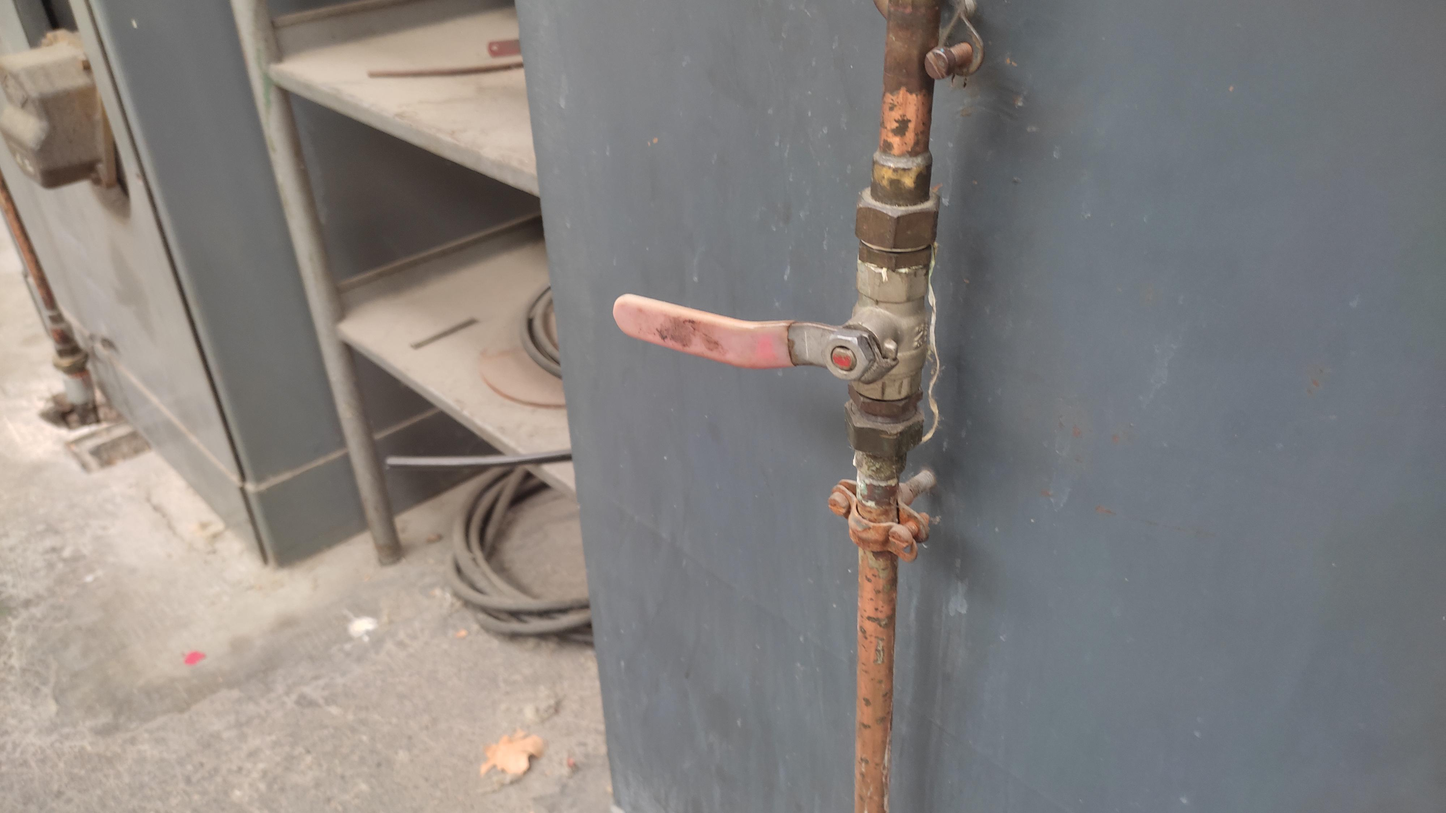closed valve: (613, 261, 932, 404)
